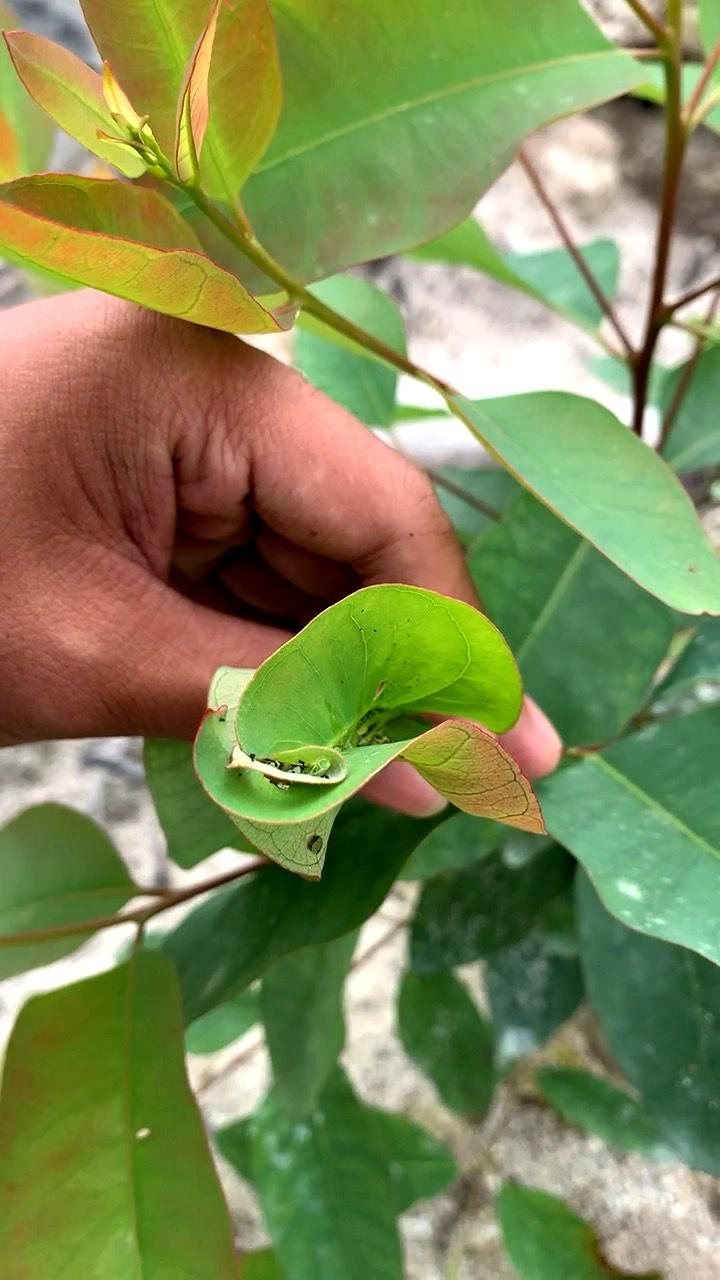Leaf Roller - Leaf: (175, 563, 556, 940)
